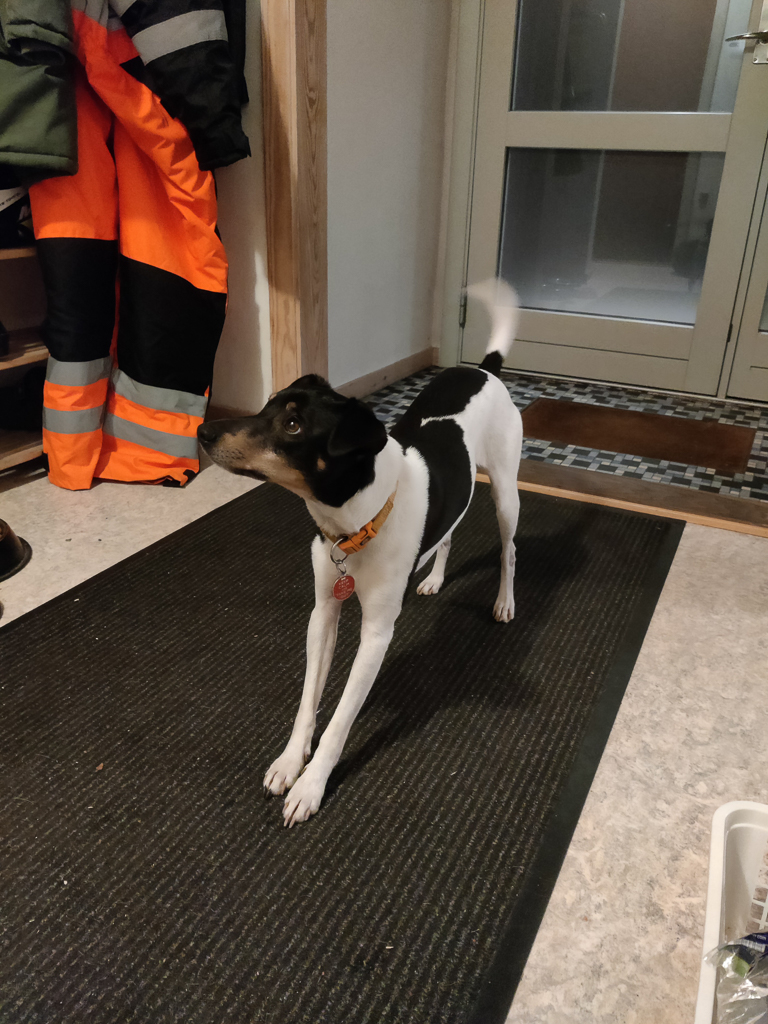Dog: (184, 263, 550, 845)
